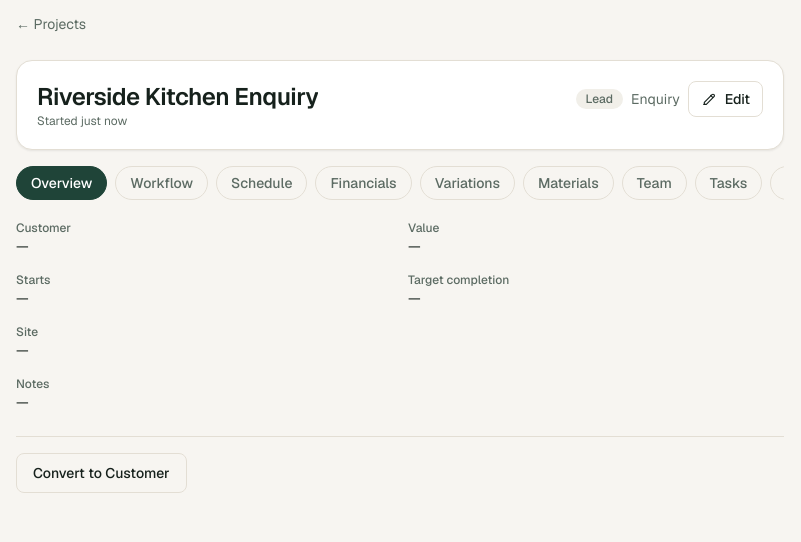
it: ProjectDetailPage — site visit scheduling (Sprint 022) › keeps_the_form_and_shows_an_error_when_scheduling_fails
Click the tab "Schedule": coordinates (262, 183) [216,166,308,200]
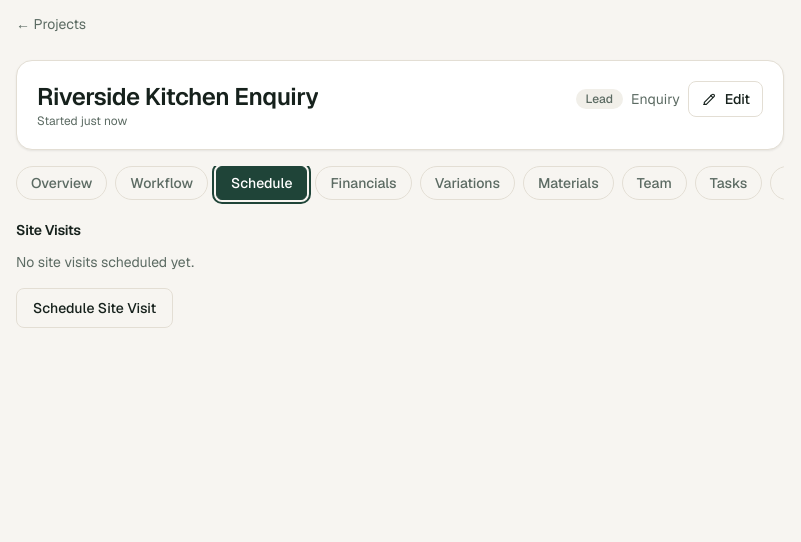
Click the button "Schedule Site Visit": coordinates (95, 308) [16,288,173,328]
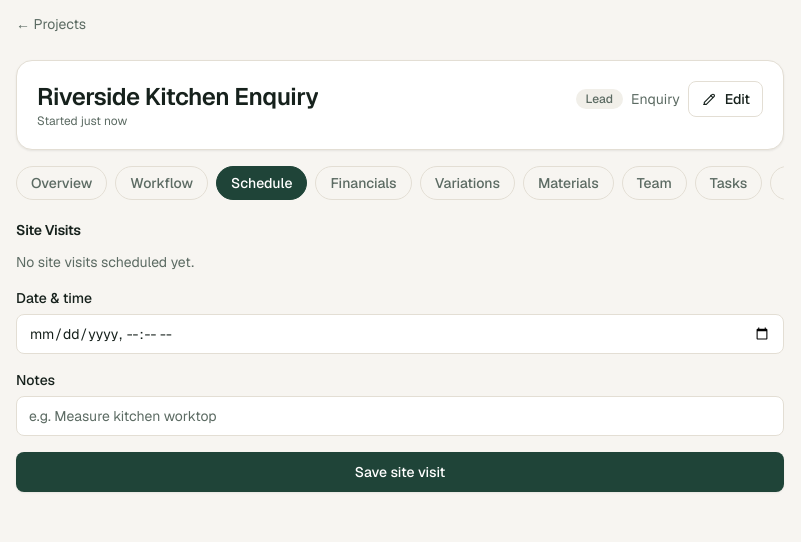
In the field labelled "Date & time": coordinates (400, 334) [16,314,784,354], type "2030-01-01T10:00"
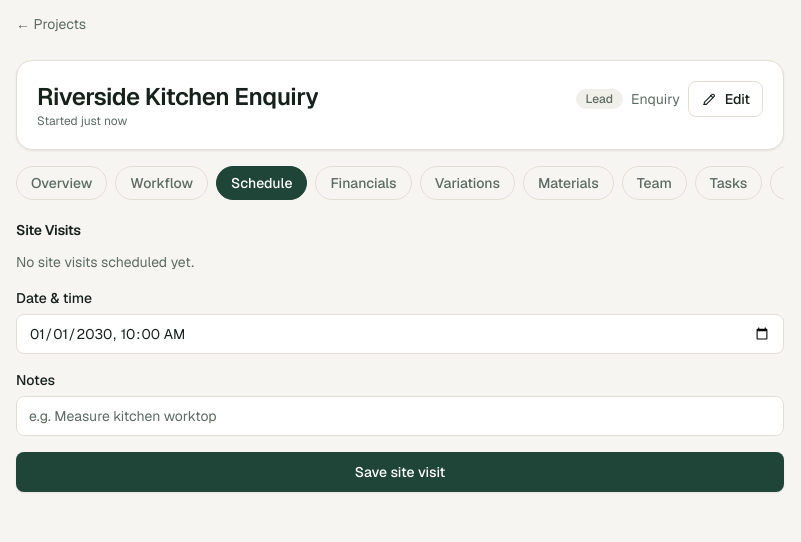
Click the button "Save site visit": coordinates (400, 472) [16,452,784,492]
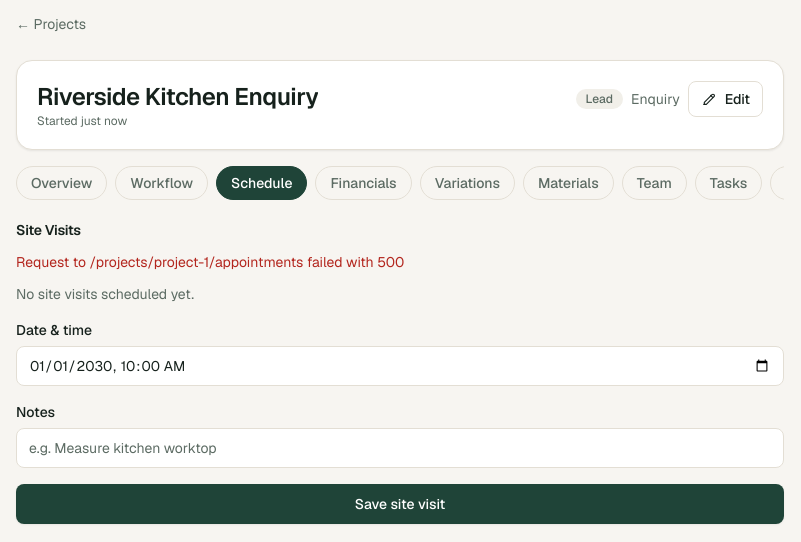
Expected: the button "Save site visit" is enabled, [16,484,784,524]
Expected: the text "Request to /projects/project-1/appointments failed with 500" is shown, [16,253,404,271]
